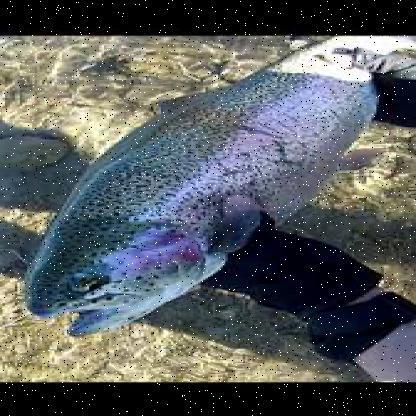fish: (21, 38, 400, 338)
